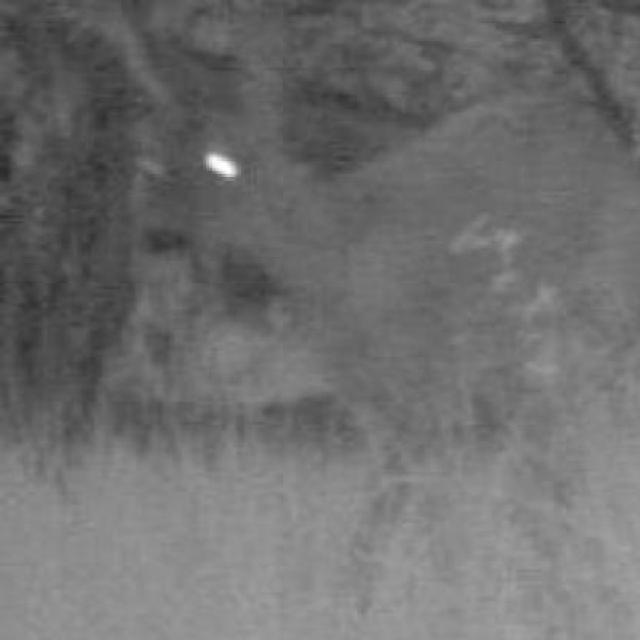Deer: (109, 56, 637, 596)
